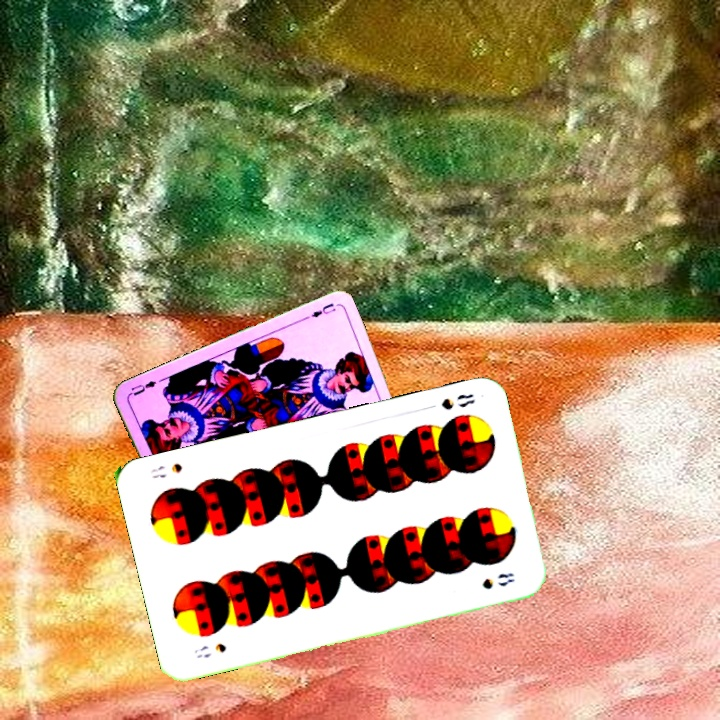EU: (307, 299, 338, 320)
S8: (437, 389, 478, 413), (190, 639, 229, 661)
